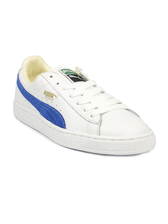shoes: (8, 48, 161, 156)
